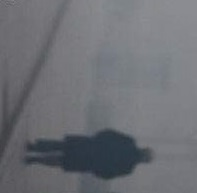person: (22, 127, 155, 178)
